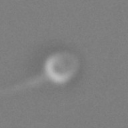normal: (1, 73, 47, 102)
